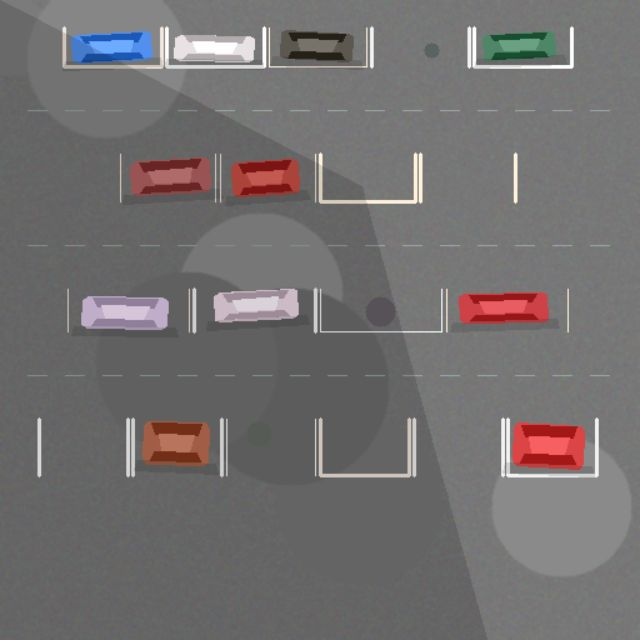space-empty: (320, 289, 441, 331), (39, 419, 128, 475), (226, 419, 315, 475), (320, 419, 409, 475), (414, 419, 502, 475), (320, 154, 415, 201), (420, 154, 515, 201), (371, 27, 469, 66)
space-occupied: (67, 289, 189, 331), (194, 289, 315, 331), (446, 289, 567, 331), (132, 419, 221, 475), (508, 419, 596, 475), (120, 154, 215, 201), (220, 154, 315, 201), (166, 27, 264, 66), (64, 27, 161, 66), (269, 27, 366, 66), (474, 27, 571, 66)
